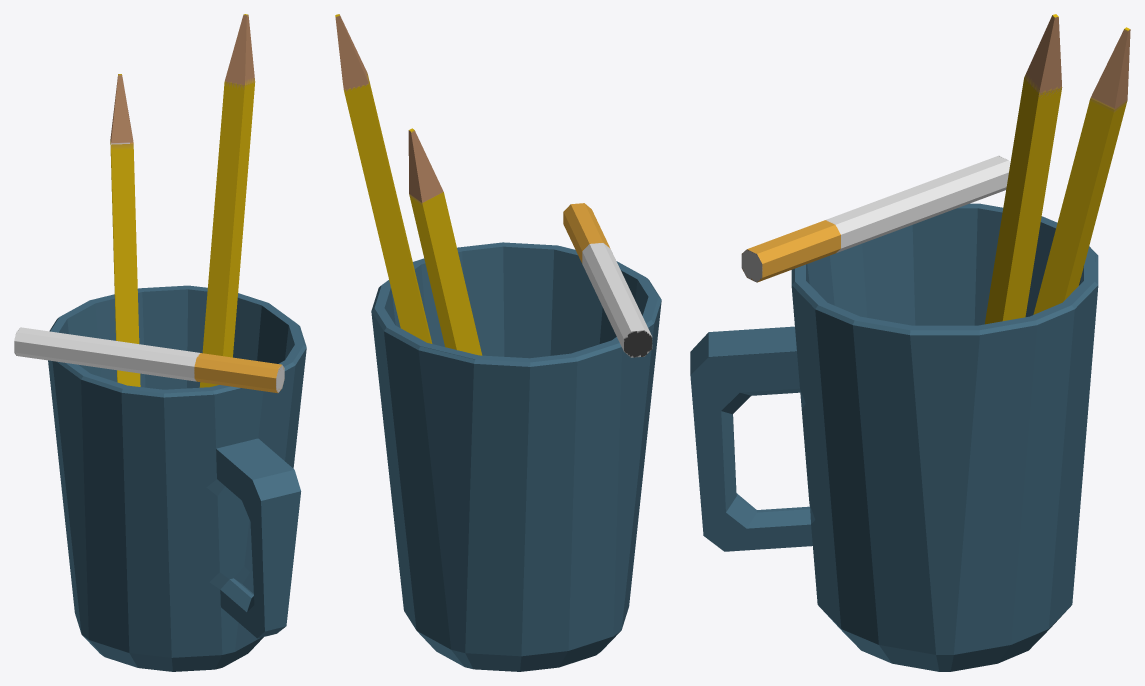
Rendered from pencilmug.glb.
3 renders of one model, left to right at view 1: azimuth 30°, elevation 25°; view 2: azimuth 150°, elevation 25°; view 3: azimuth 270°, elevation 25°, orthographic. The views are drawn at different scales.
Visible parts, largest first — view 1: mug, objects; view 2: mug, objects; view 3: mug, objects.
Part boxes in pixels (x1,y1,x2,y2): mug: (48, 285, 306, 671); objects: (14, 14, 284, 393); mug: (371, 242, 661, 671); objects: (335, 14, 652, 357); mug: (690, 203, 1098, 671); objects: (741, 14, 1130, 324).
Bounding box in the file's own units: 1.83 × 3.77 × 2.21.
Materials: 2 (2 with a texture image).
